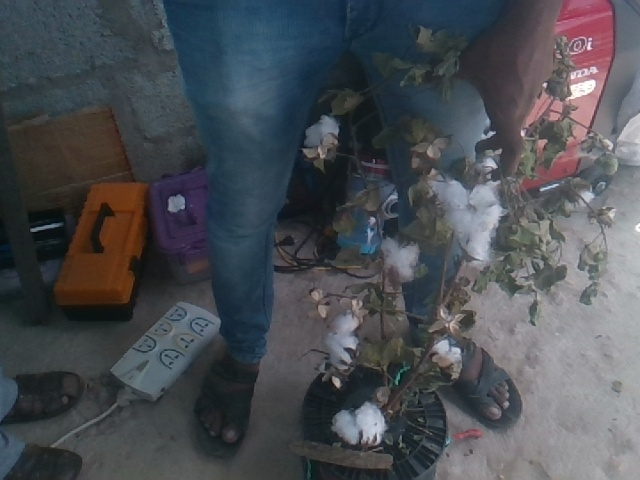cotton: (430, 165, 498, 265), (323, 311, 362, 379), (332, 403, 386, 447), (379, 238, 426, 278), (302, 116, 338, 157)
